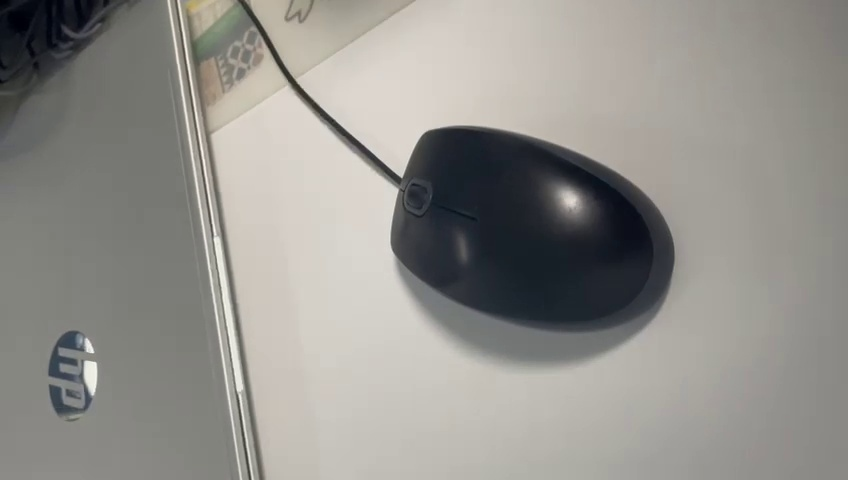objeto: (357, 114, 688, 352)
